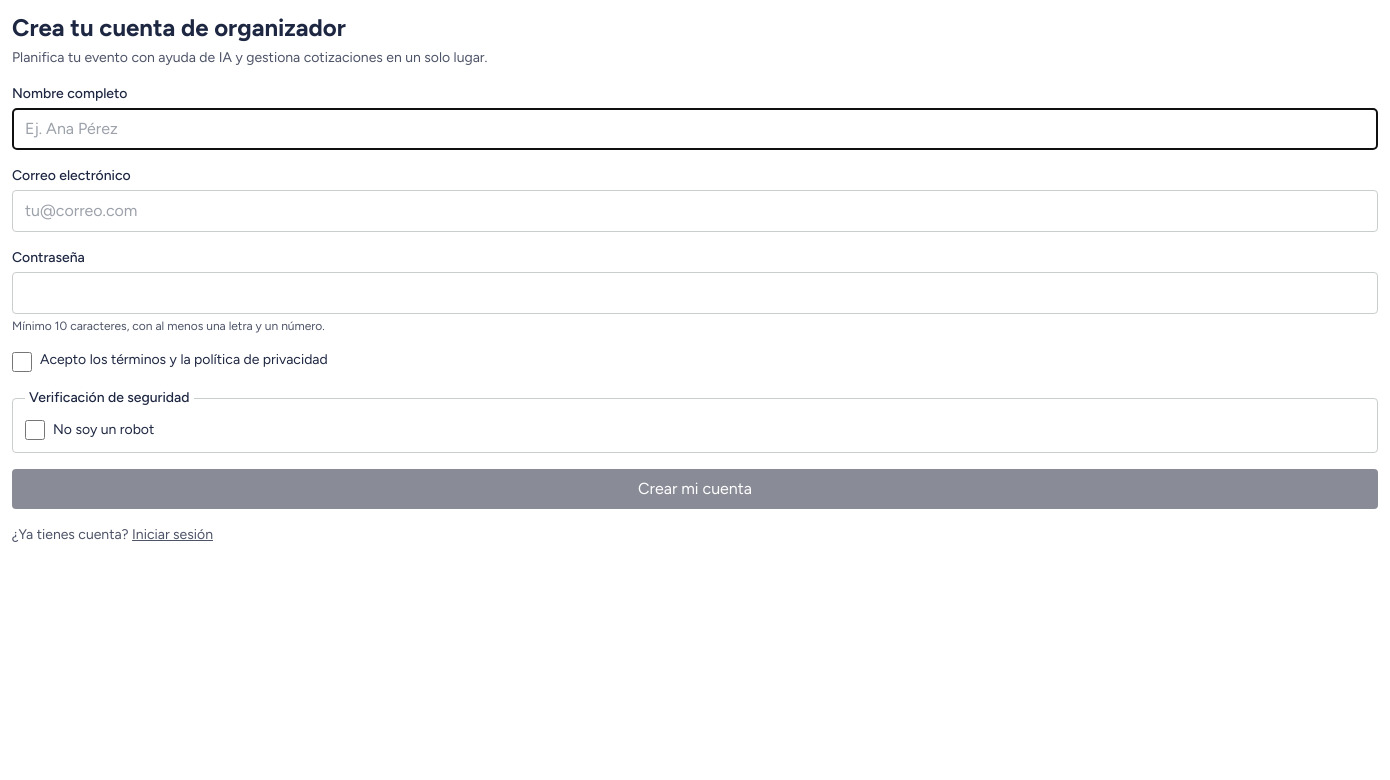
Scenario: US-001 FE-002/FE-003 — estados y validación › EC-02/VR-02: contraseña igual al localpart del email → error dedicado
Type "Ana Pérez" into the field labelled "Nombre completo" at (695, 129), box [12,108,1378,150]
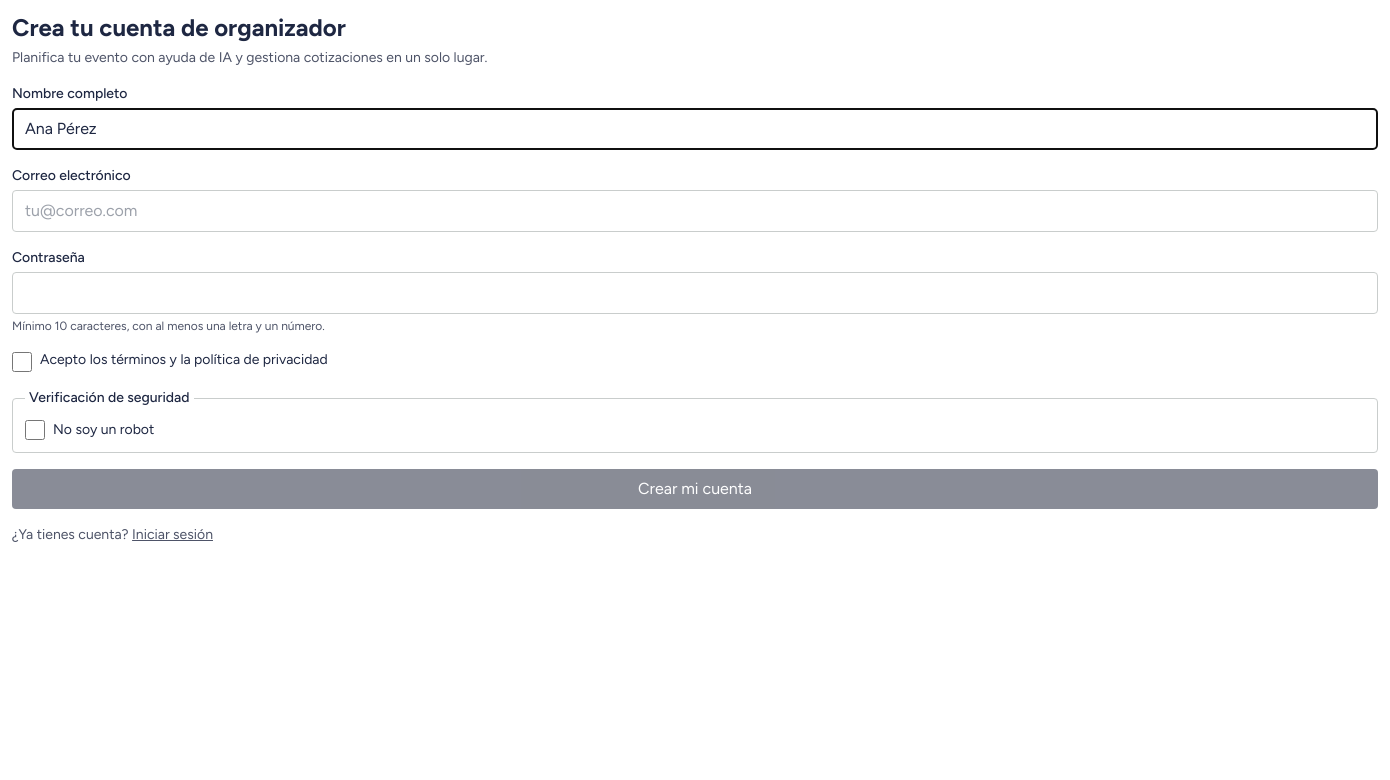
Type "Password12@eventflow.test" into the field labelled "Correo electrónico" at (695, 211), box [12,190,1378,232]
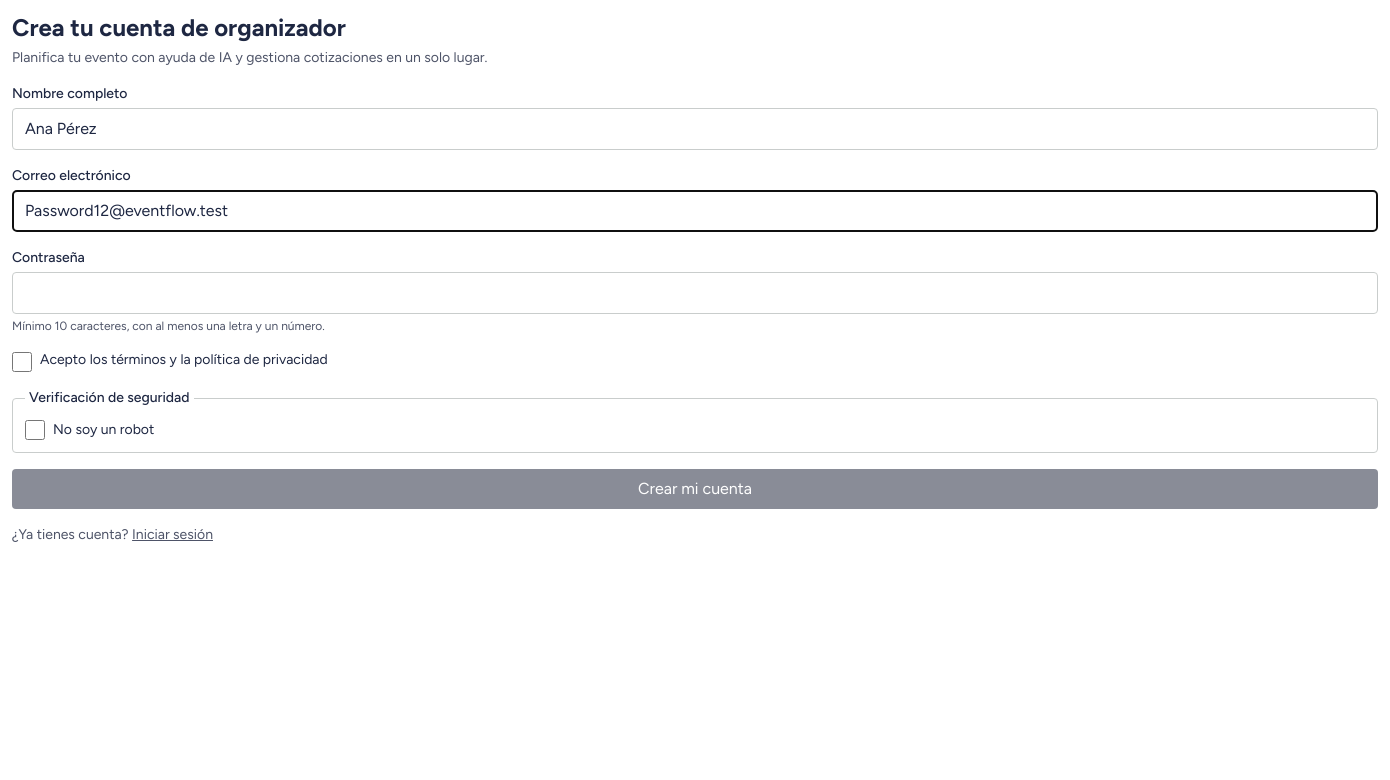
Type "password12" into the password field labelled "Contraseña" at (695, 293), box [12,272,1378,314]
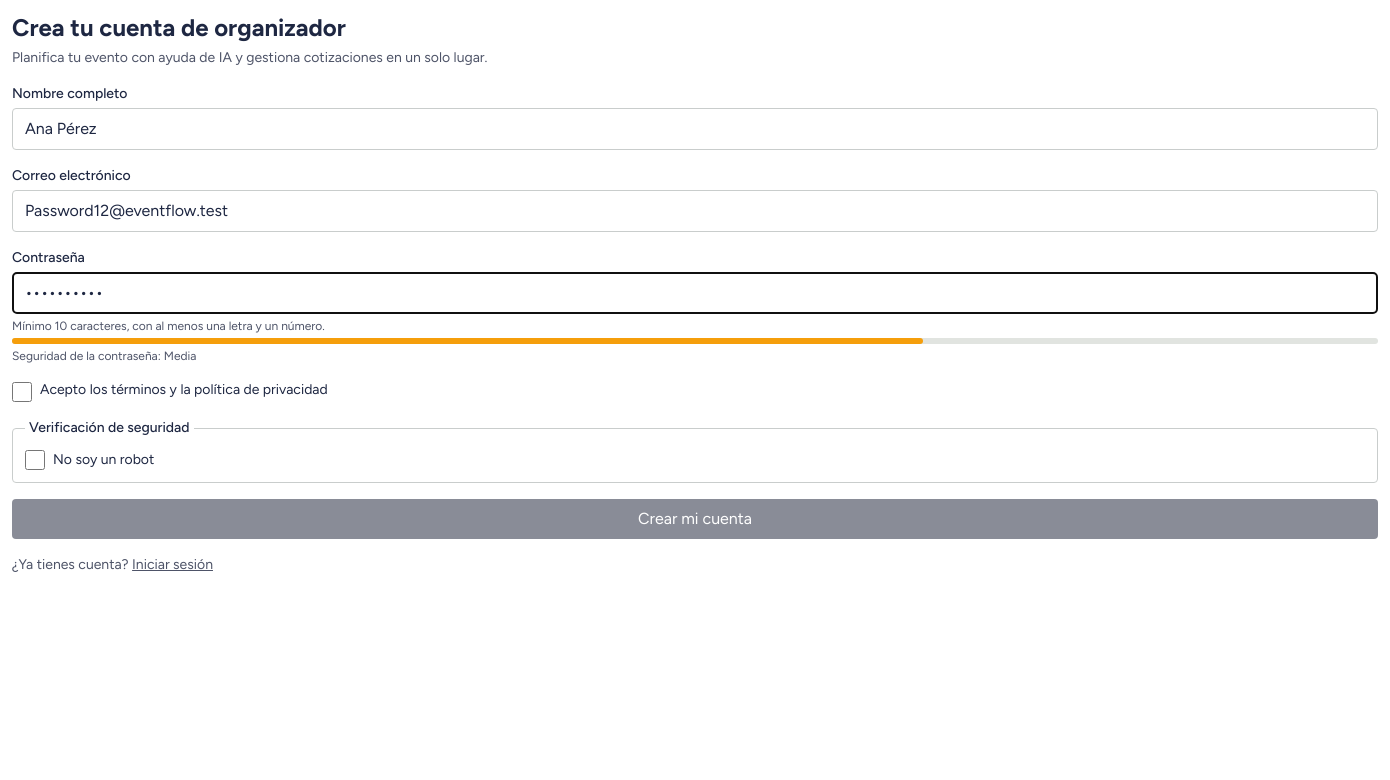
Click the checkbox labelled "Acepto los términos y la política de privacidad" at (22, 392), box [12,382,32,402]
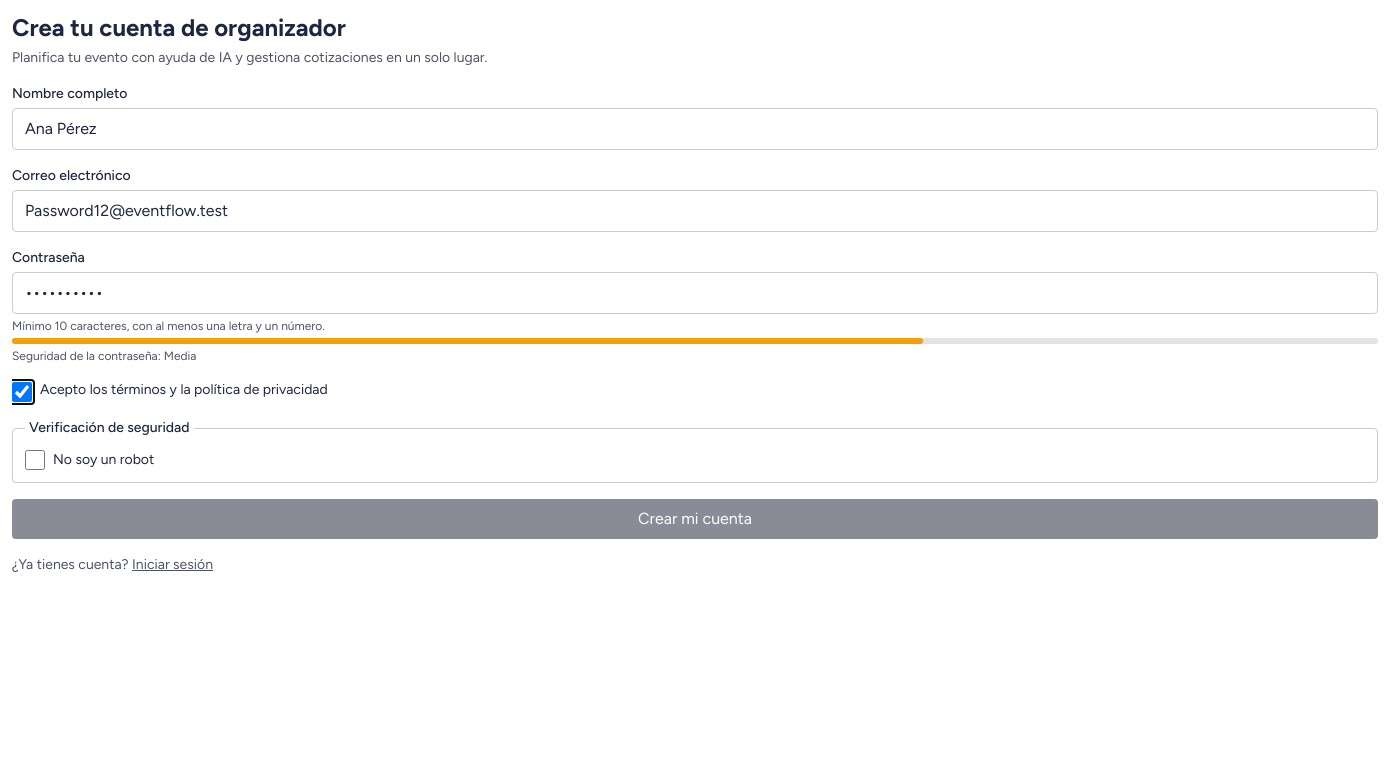
Click the checkbox labelled "No soy un robot" at (35, 460), box [25,450,45,470]
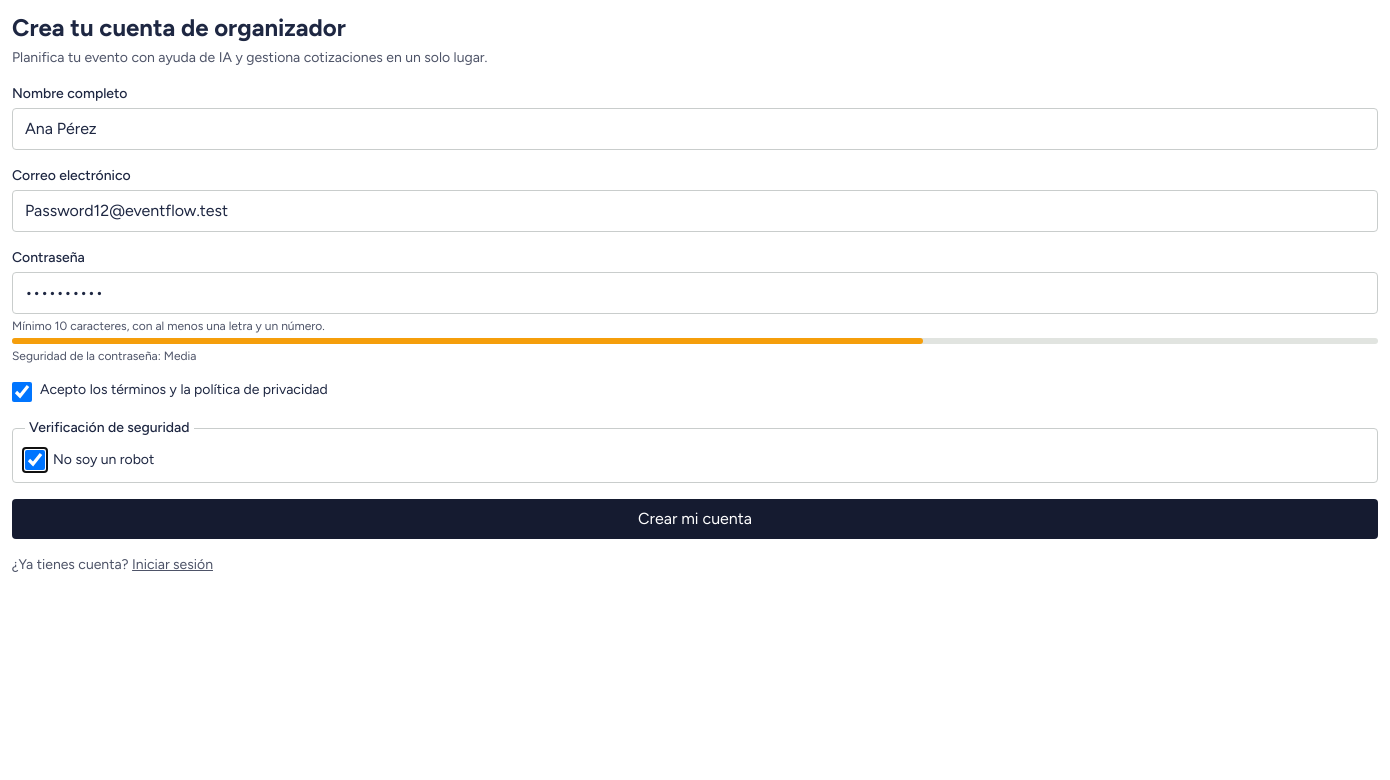
Click the button "Crear mi cuenta" at (695, 519), box [12,499,1378,539]
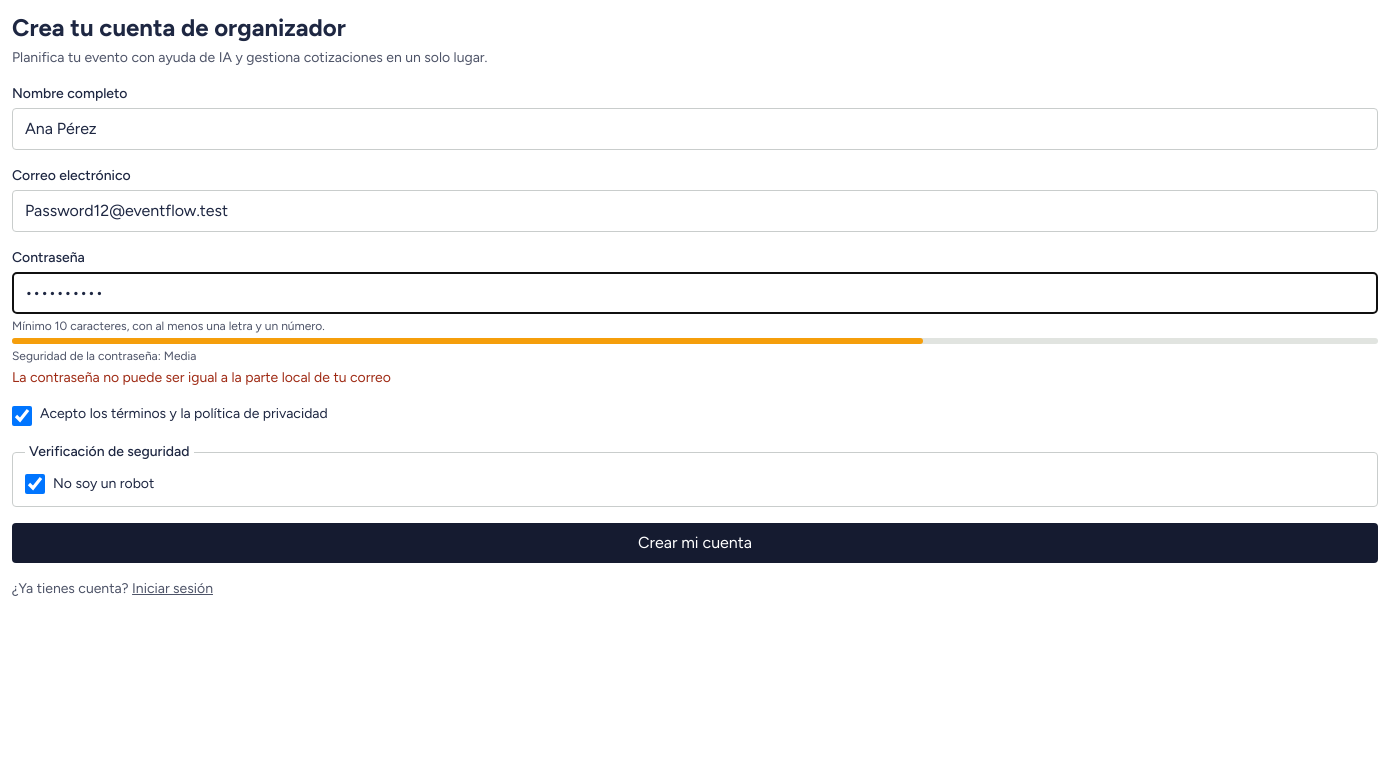
Now the text "La contraseña no puede ser igual a la parte local de tu correo" is shown, box [12,369,391,386]
